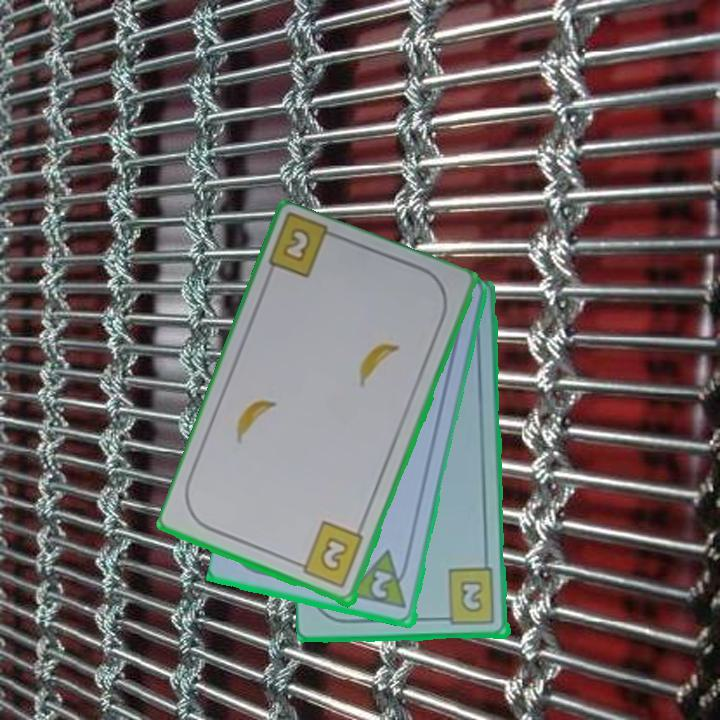2b: (291, 519, 367, 592), (437, 566, 498, 628), (279, 225, 314, 266)
2p: (347, 547, 414, 612)
